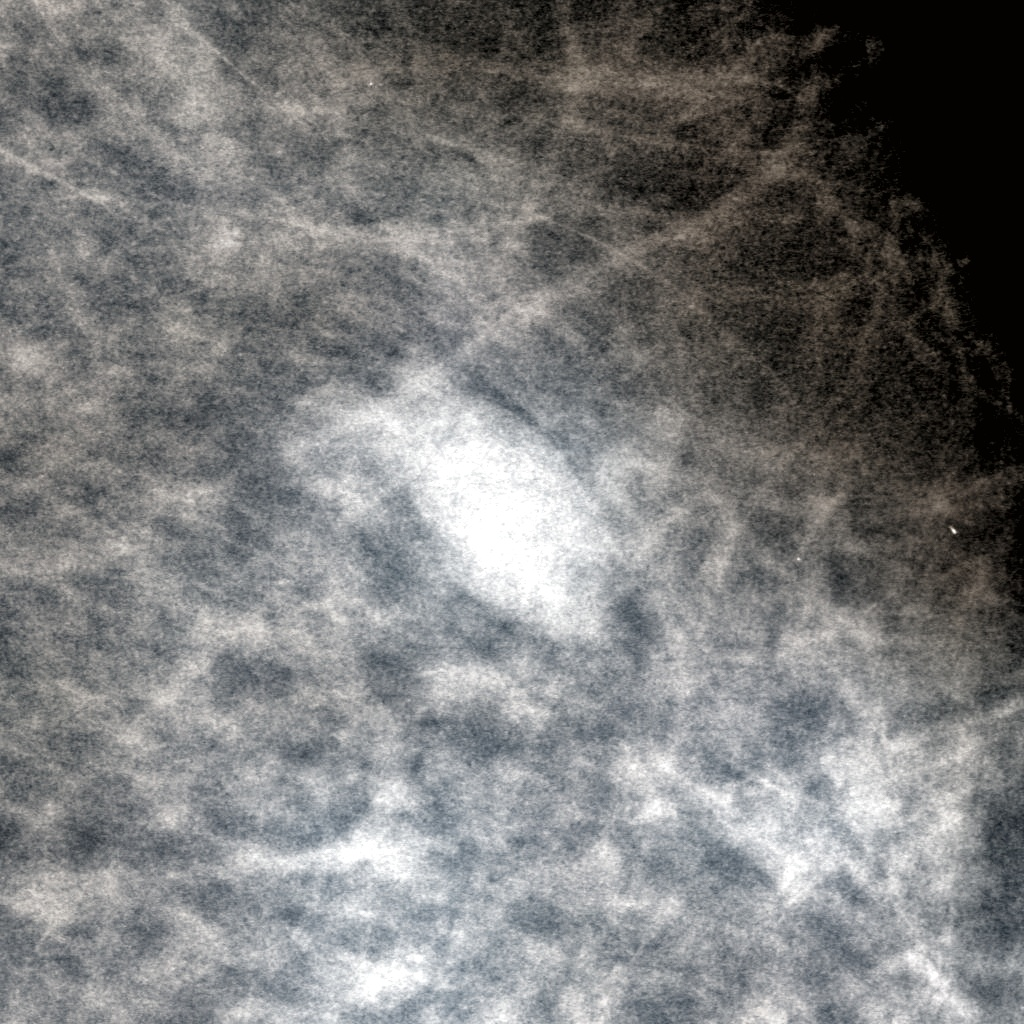tumor: (411, 409, 613, 615)
